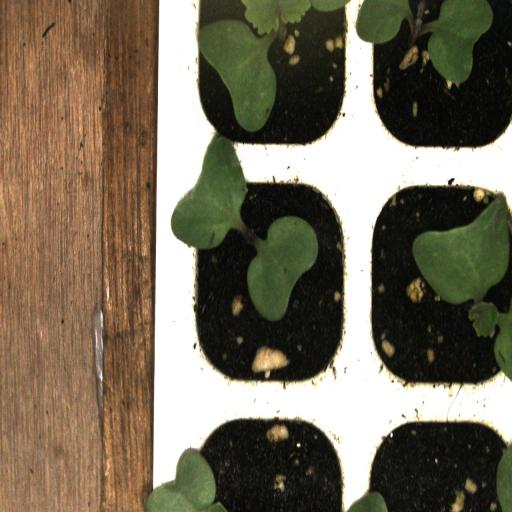Folha: (199, 0, 348, 132), (171, 135, 248, 250), (247, 216, 318, 322), (424, 0, 493, 84), (147, 450, 227, 512)
Germinacao: (174, 165, 358, 400), (357, 167, 512, 401)
